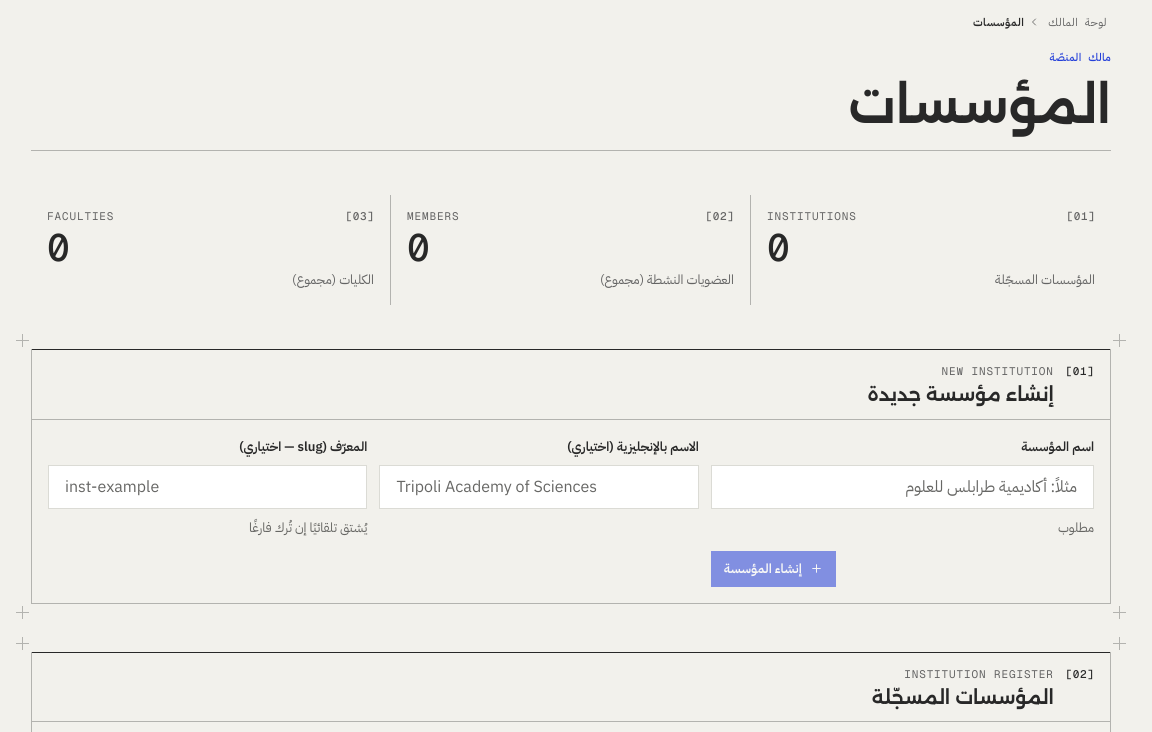
it: OwnerInstitutionsPage — keep edits on create failure (r183-B5) › a successful create clears the draft
Type "أكاديمية طرابلس" into the field labelled "اسم المؤسسة" at (902, 487), box [711,465,1094,509]
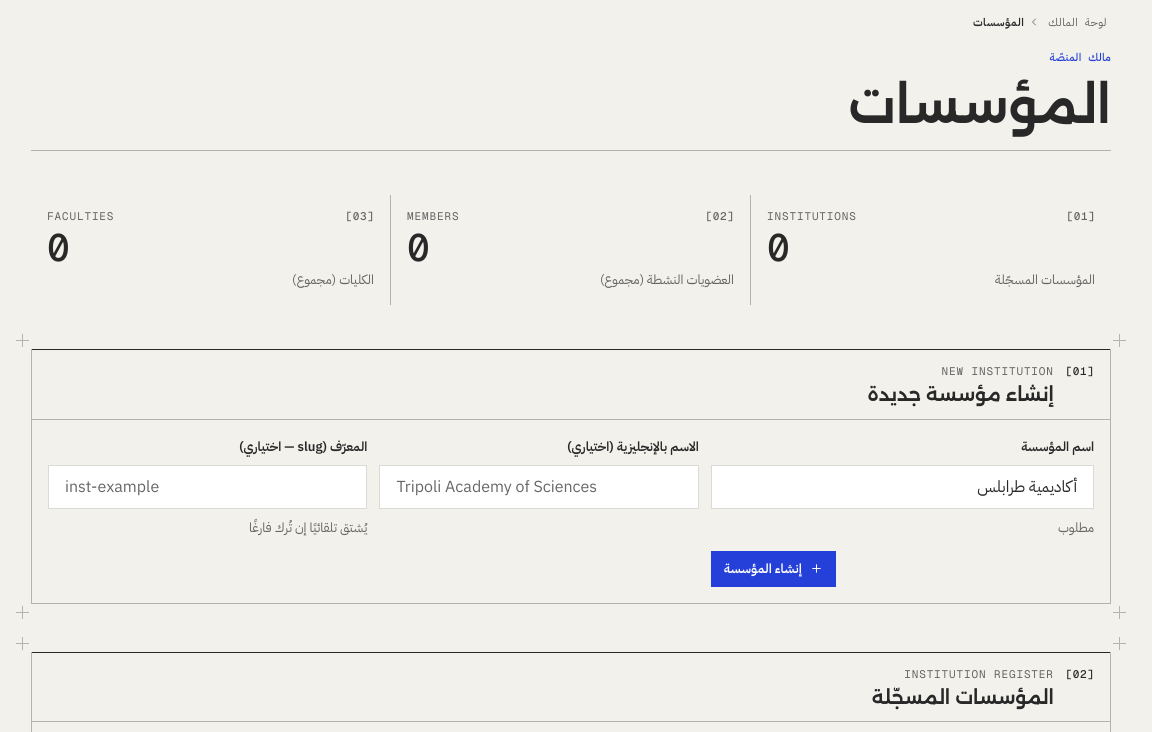
Click the button "إنشاء المؤسسة" at (773, 569), box [711,551,836,587]
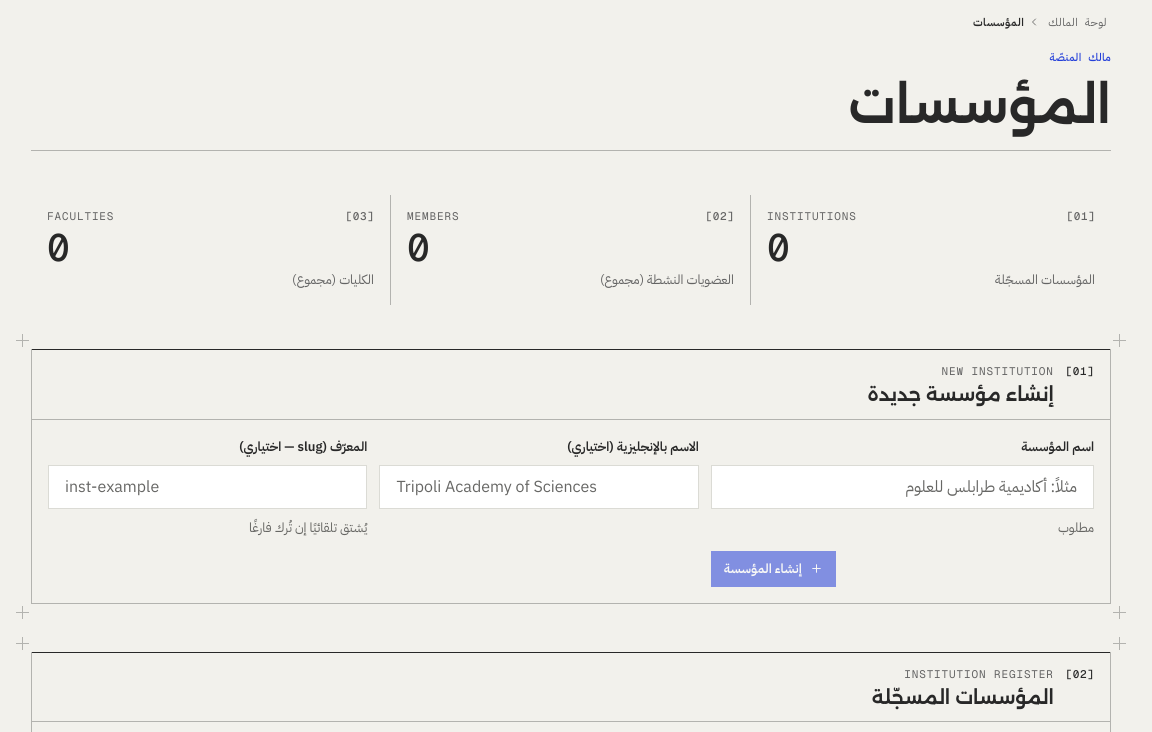
Expected: the field labelled "اسم المؤسسة" is empty, [711,465,1094,509]
